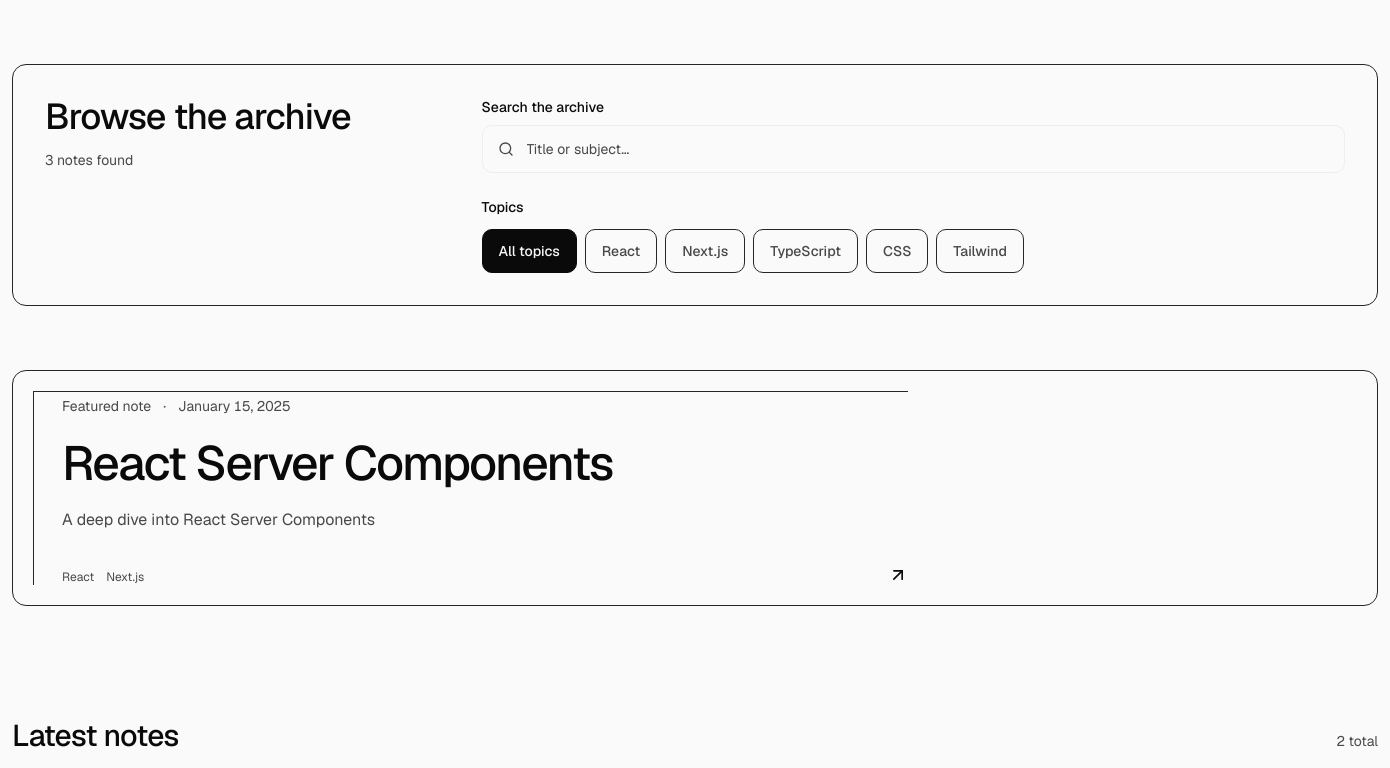
BlogList › should clear filters when clicking "Clear all filters"
In the search field labelled "Search the archive": (913,149) [482,125,1345,173], type "NonExistentPost"
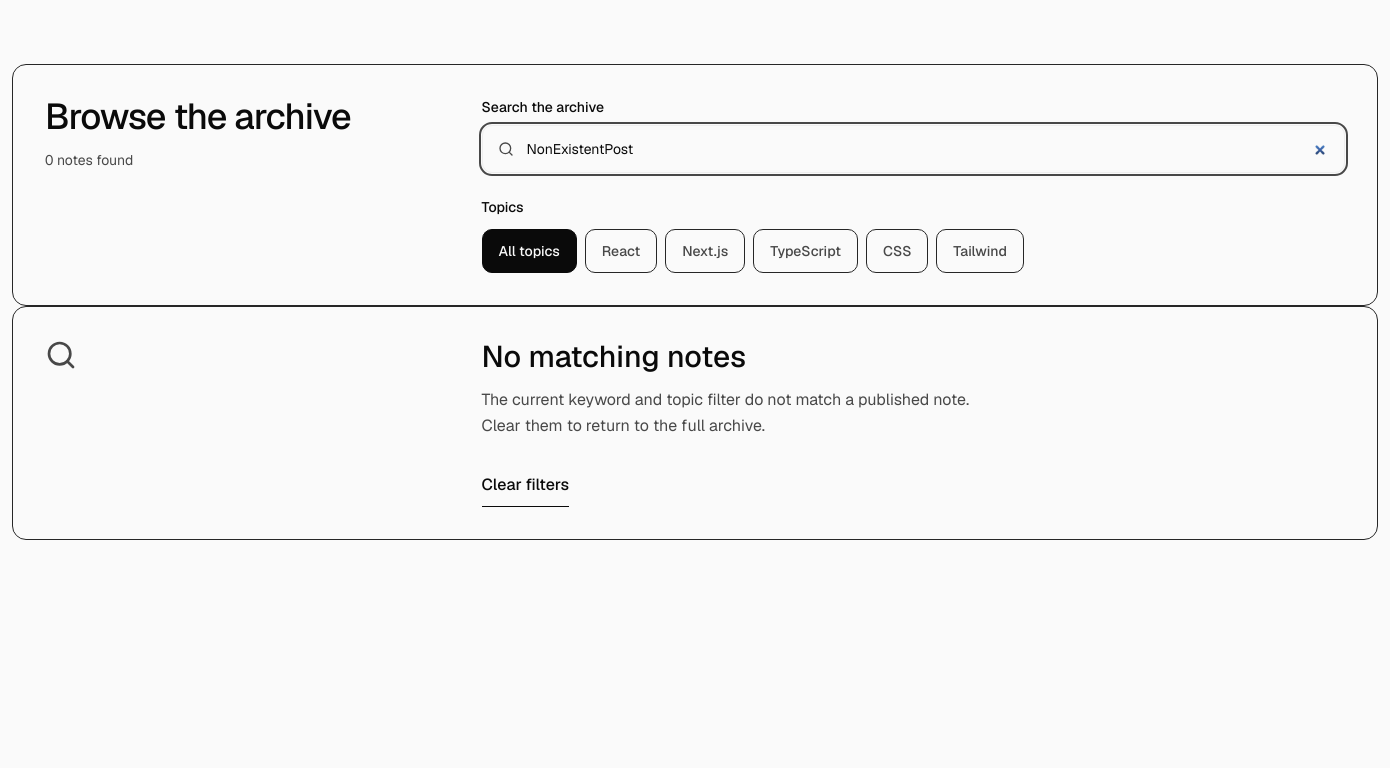
Click the button "Clear filters": (525,485) [482,463,569,507]
(page scrolled)
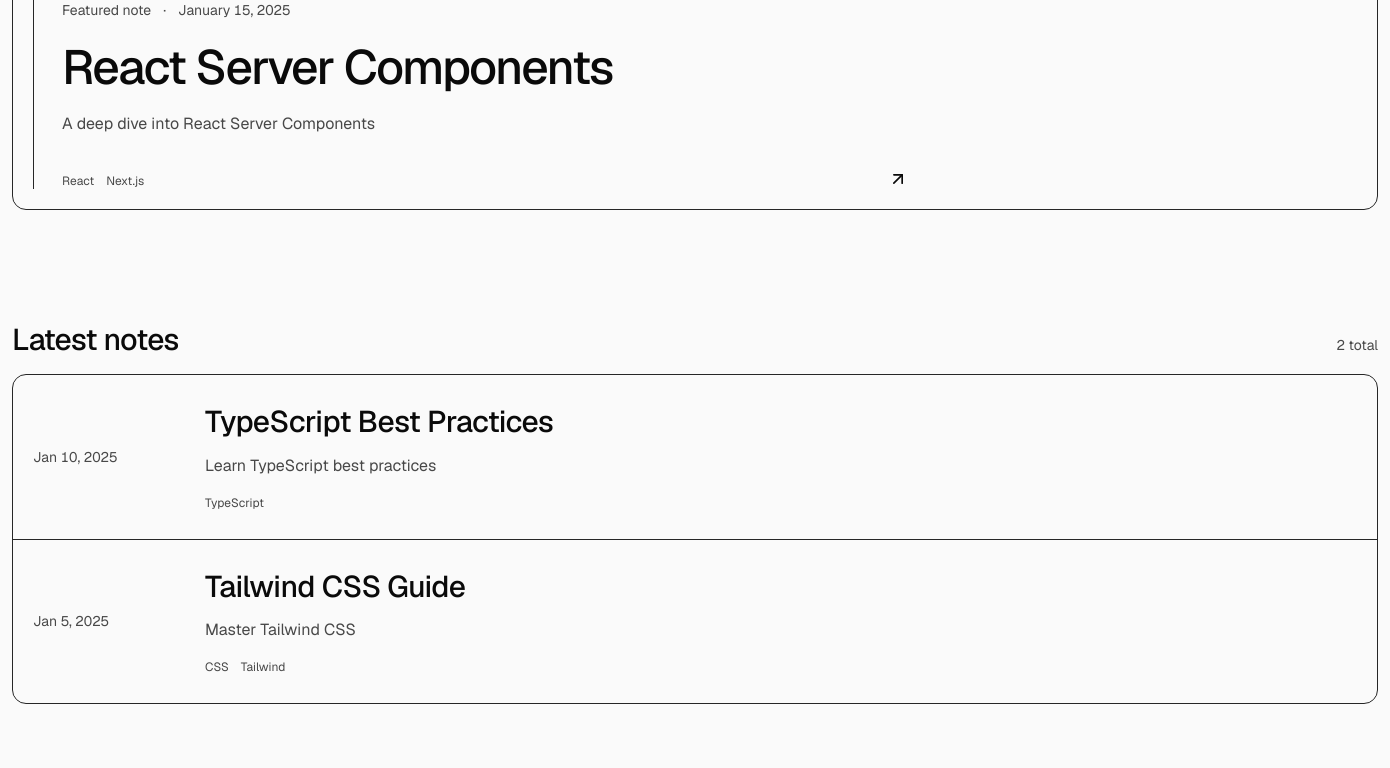
Now the heading "React Server Components" is shown, box [62,36,613,98]
Now the heading "TypeScript Best Practices" is shown, box [205,402,553,441]
Now the heading "Tailwind CSS Guide" is shown, box [205,566,465,606]
